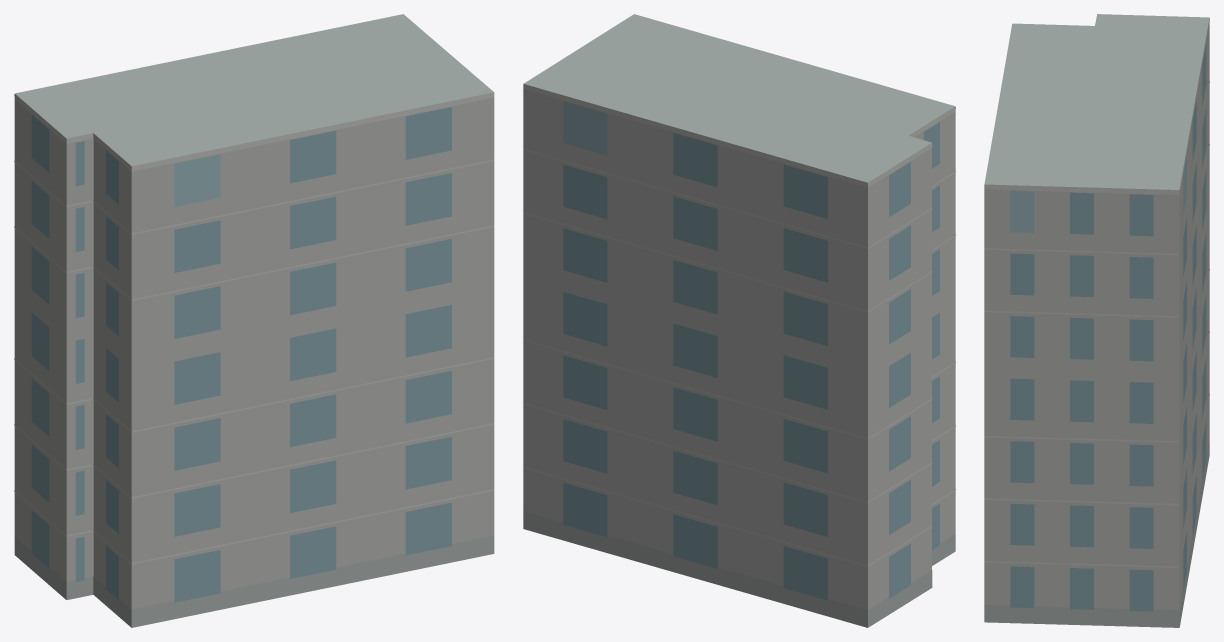
File: survey-upis-32551559.glb
3 renders of one model, left to right at view 1: azimuth 30°, elevation 25°; view 2: azimuth 150°, elevation 25°; view 3: azimuth 270°, elevation 25°, orthographic. The views are drawn at different scales.
Visible parts, largest first — view 1: survey-upis-32551559.tmp; view 2: survey-upis-32551559.tmp; view 3: survey-upis-32551559.tmp.
Boxes of the visible parts, x1,y1,x2,y2 form: survey-upis-32551559.tmp: (14,14,494,627); survey-upis-32551559.tmp: (523,14,955,627); survey-upis-32551559.tmp: (984,14,1209,627).
Bounding box in the file's own units: 18.13 × 21 × 9.82.
